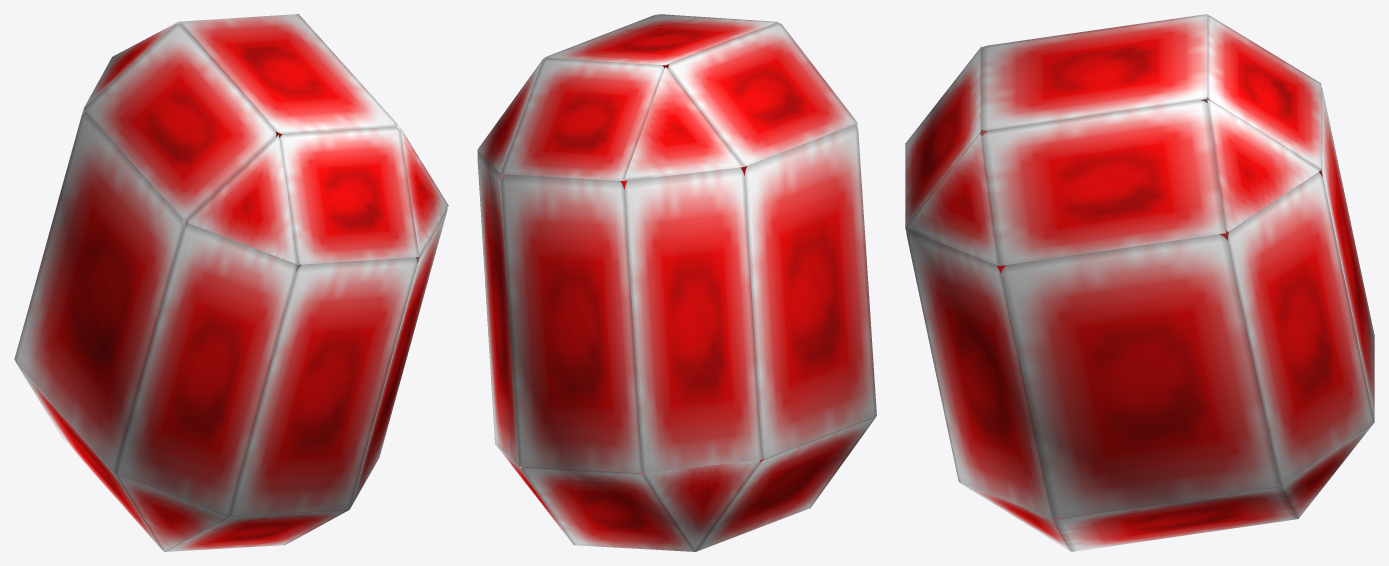
3 views of the same model, side by side, from view 1: azimuth 30°, elevation 25°; view 2: azimuth 150°, elevation 25°; view 3: azimuth 270°, elevation 25° (orthographic). The views are drawn at different scales.
Parts seen in each view (by area): view 1: T1L7M002_20; view 2: T1L7M002_20; view 3: T1L7M002_20.
Part boxes in pixels (x1,y1,x2,y2): T1L7M002_20: [14, 14, 448, 551]; T1L7M002_20: [477, 14, 876, 551]; T1L7M002_20: [905, 14, 1374, 551].
Size of the model in its own units: 0.2949 by 0.4385 by 0.3613.
